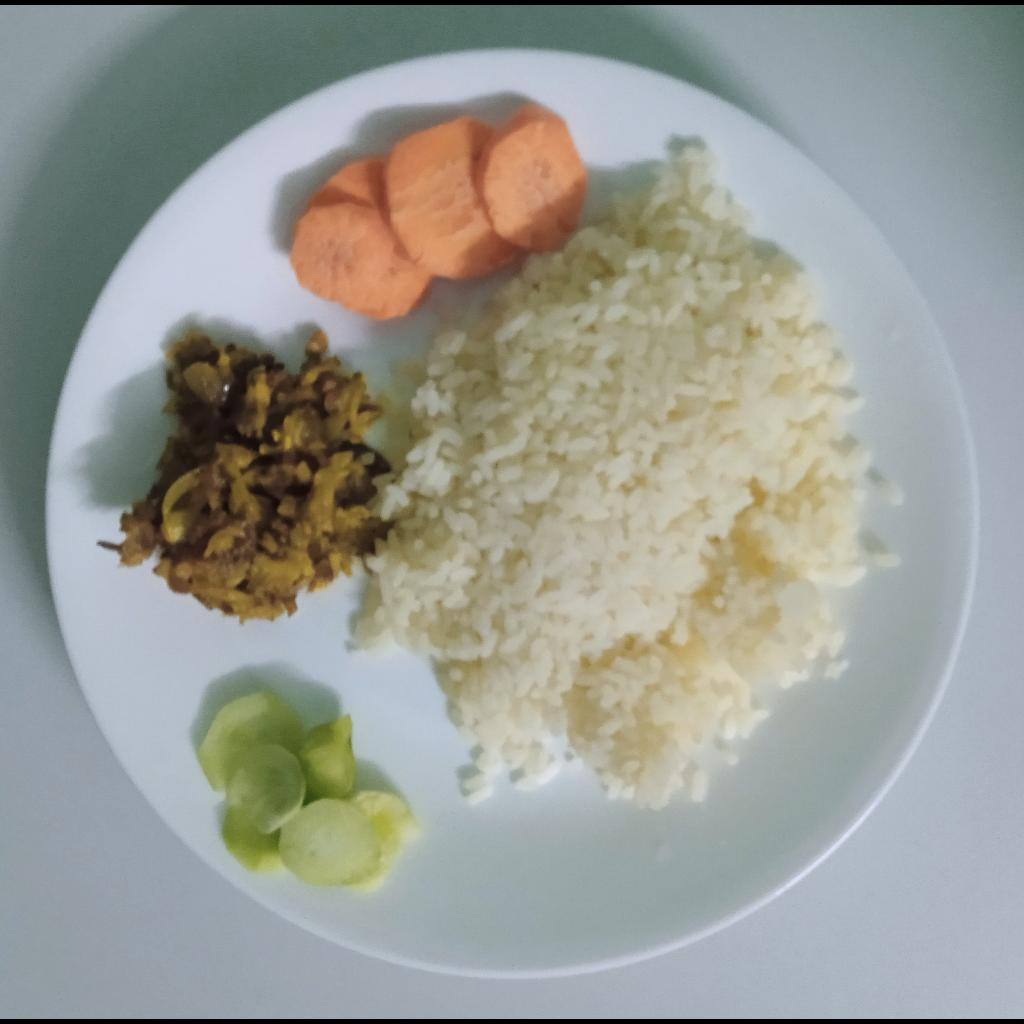carrot: (289, 107, 589, 321)
cucumber: (199, 690, 417, 889)
dundol: (112, 329, 386, 617)
rice: (352, 143, 875, 813)
